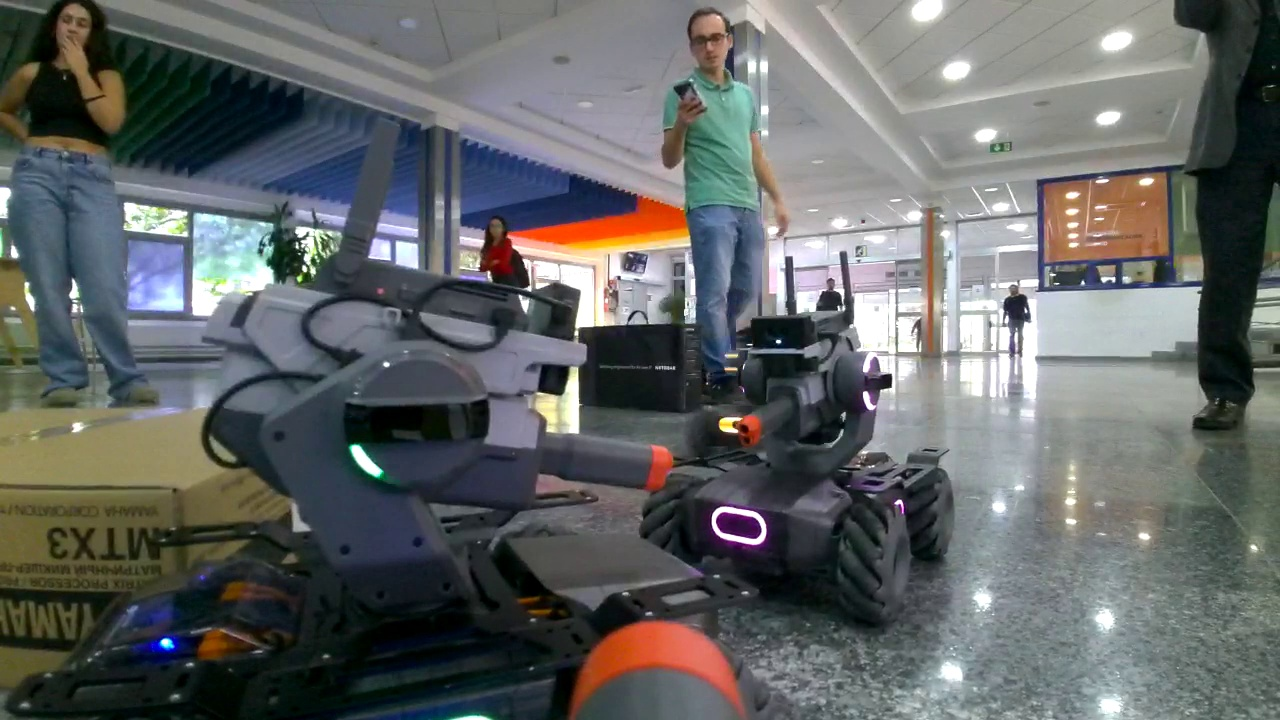robot: (645, 310, 959, 633)
